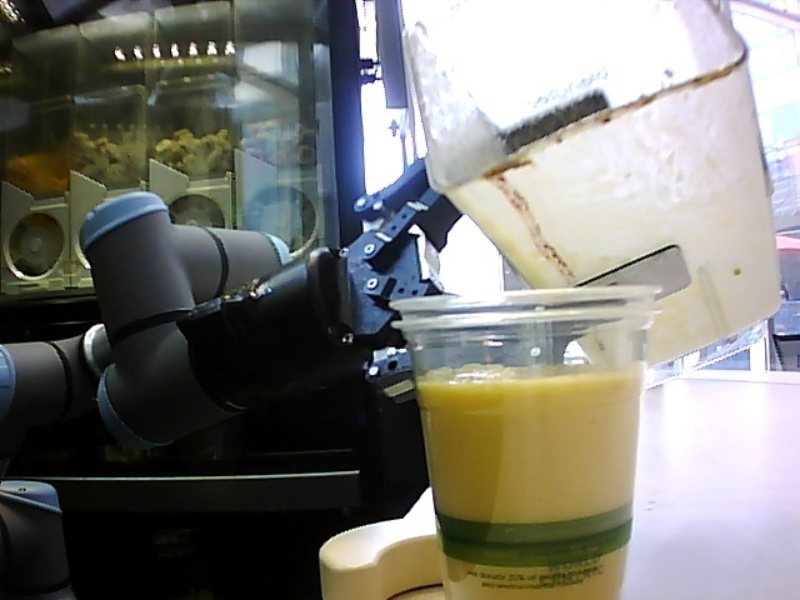cup: (378, 278, 668, 600)
limit: (414, 350, 646, 399)
